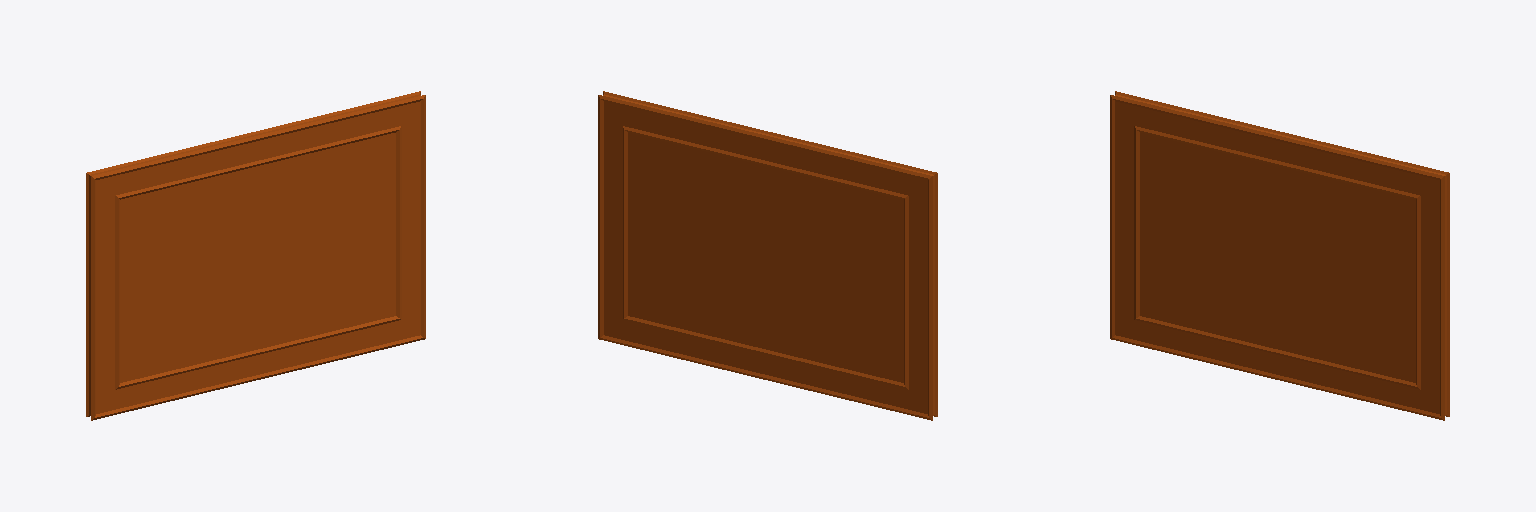
The model's file is Painting_XL.obj.
3 renders of one model, left to right at view 1: azimuth 30°, elevation 25°; view 2: azimuth 150°, elevation 25°; view 3: azimuth 330°, elevation 25°, orthographic.
Visible parts, largest first — view 1: Painting_XL; view 2: Painting_XL; view 3: Painting_XL.
Boxes of the visible parts, x1,y1,x2,y2 form: Painting_XL: [86, 91, 425, 420]; Painting_XL: [598, 91, 937, 420]; Painting_XL: [1110, 91, 1449, 420].
Bounding box in the file's own units: 6.51 × 4.55 × 0.2177.